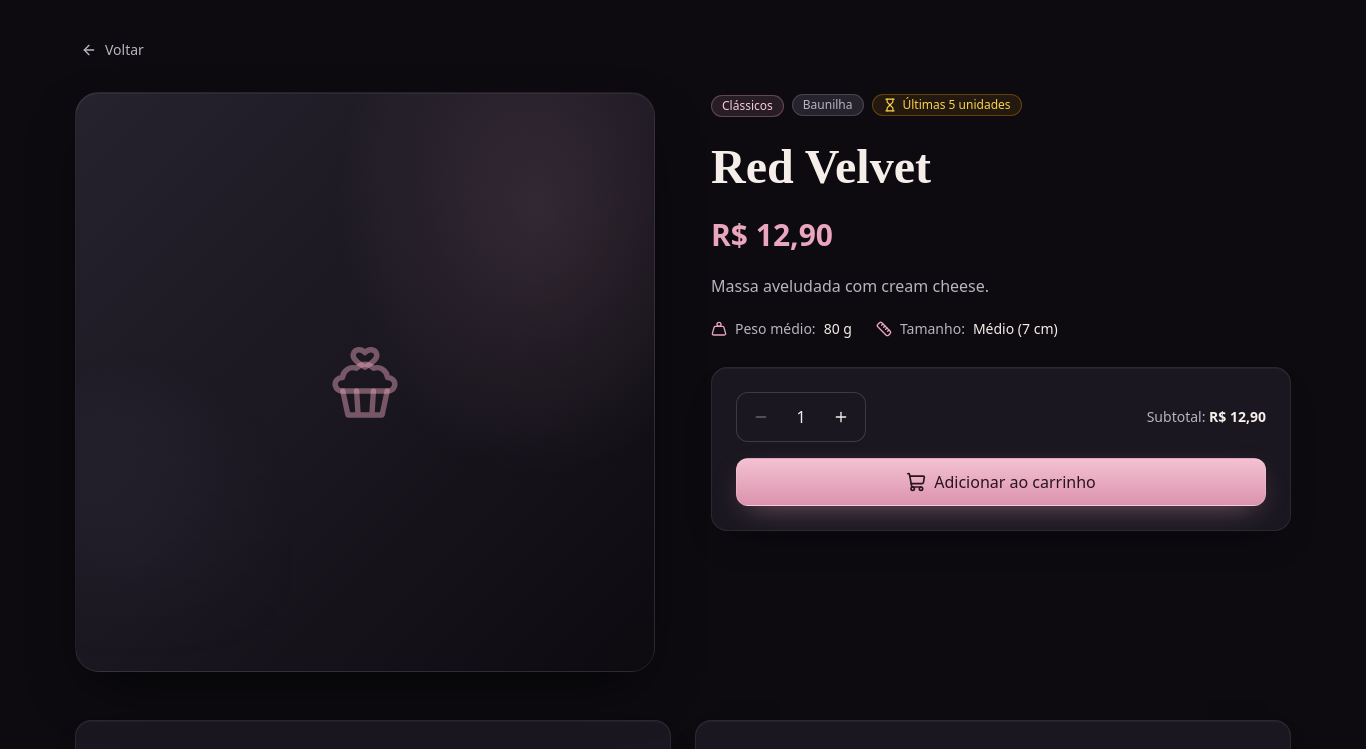
Test: CupcakeDetailPage › avisa quando o servidor indica estoque insuficiente
This screenshot has width=1366, height=749.
Step 1. Click the button named "Aumentar quantidade de Red Velvet" → (841, 417), box [821,397,861,437]
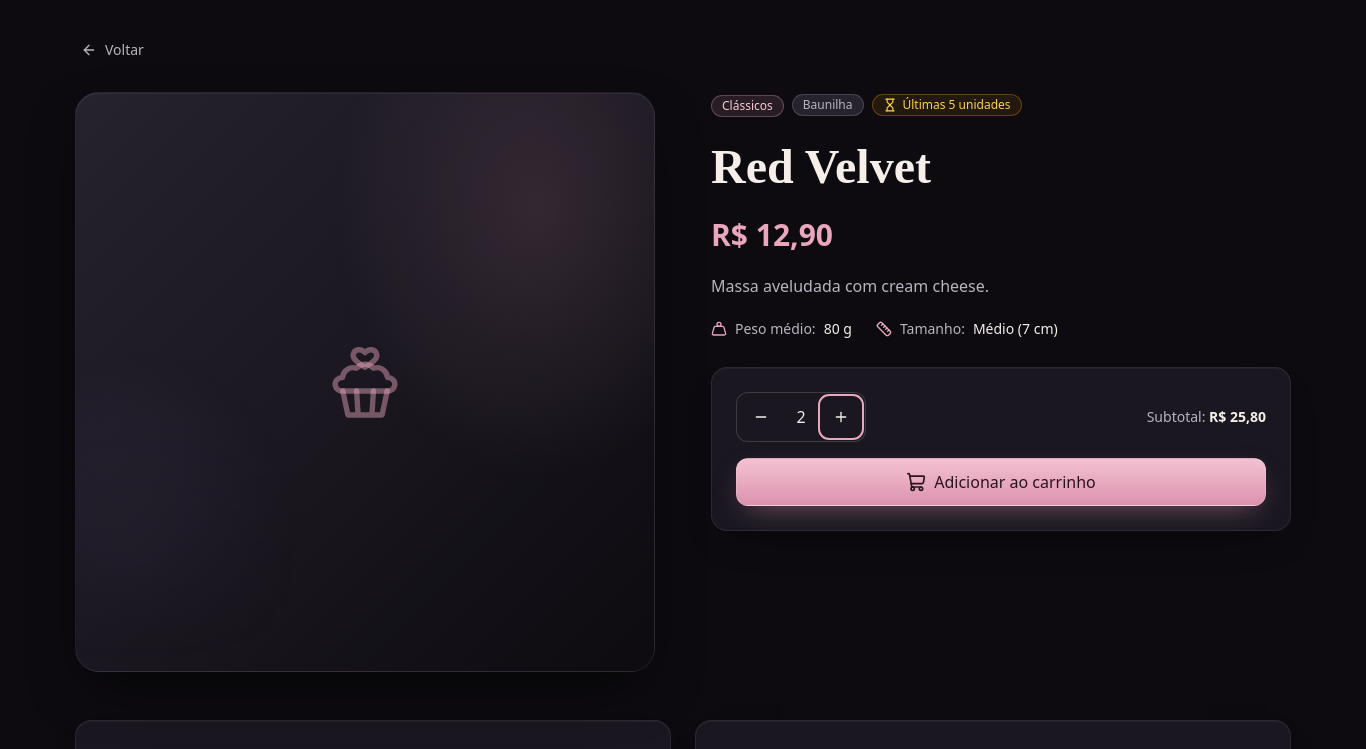
Step 2. Click the button named "Aumentar quantidade de Red Velvet" → (841, 417), box [821,397,861,437]
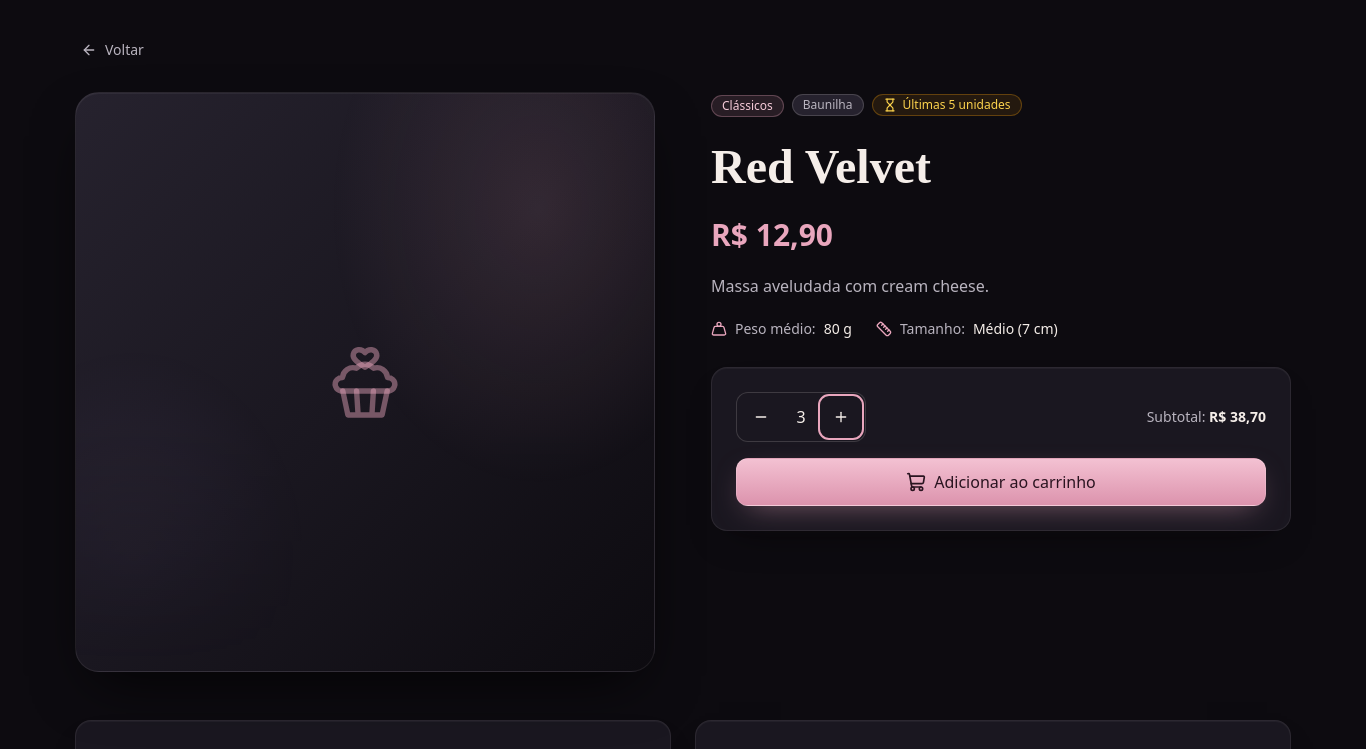
Step 3. Click the button "Adicionar ao carrinho" → (1001, 482), box [736,458,1266,506]
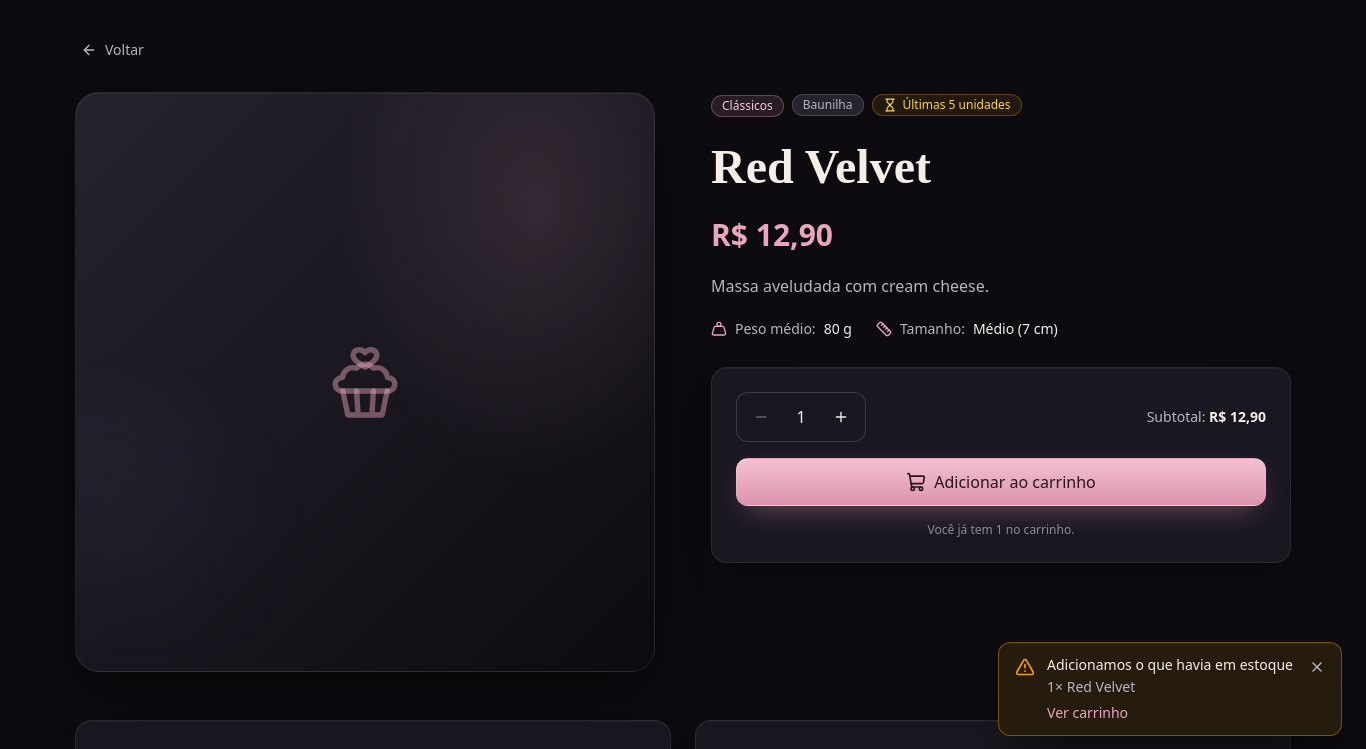
Check: the text "Adicionamos o que havia em estoque" is shown, box [1047,655,1293,675]
Check: the text "1× Red Velvet" is shown, box [1047,677,1135,696]
